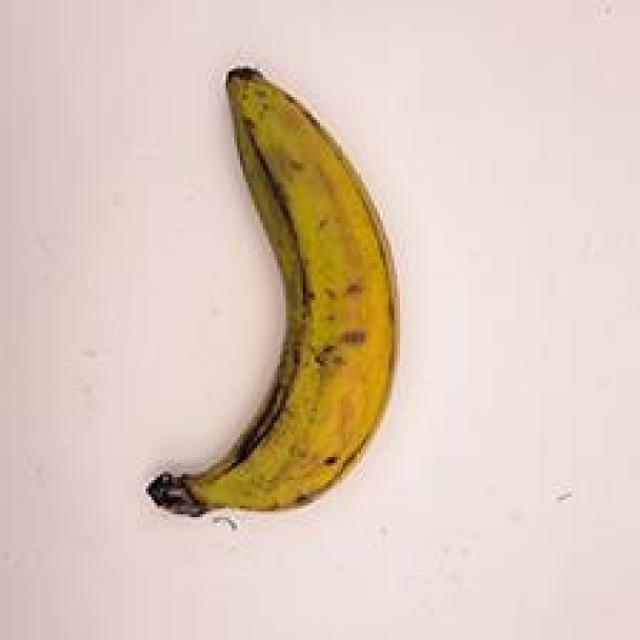Overripe: (140, 55, 435, 542)
